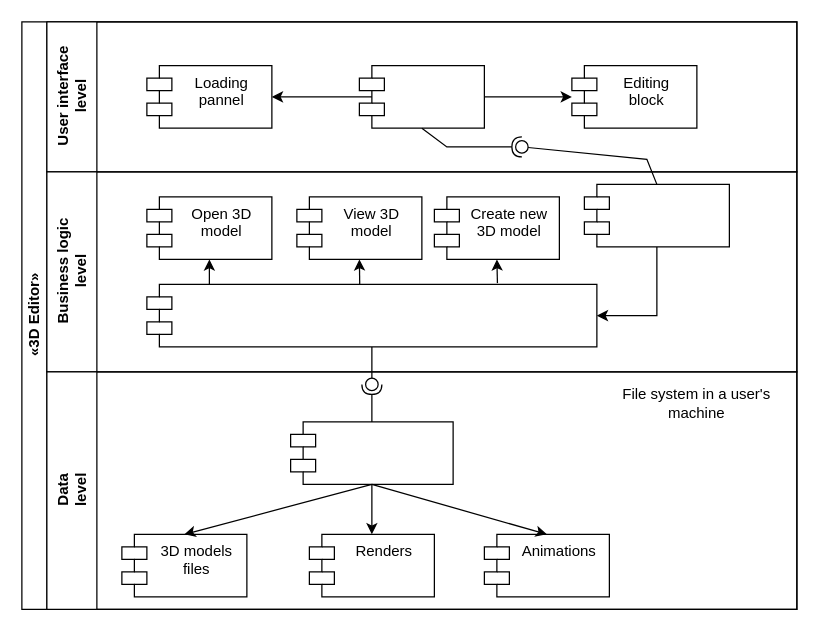
This 819x631 diagram has some shape labels left out. Each missing label, with the centre of its shape:
"AppController" goes at point (656, 215).
"EditorController" goes at point (371, 315).
"Viewing block" goes at point (421, 96).
"WorkRepository" goes at point (371, 452).
